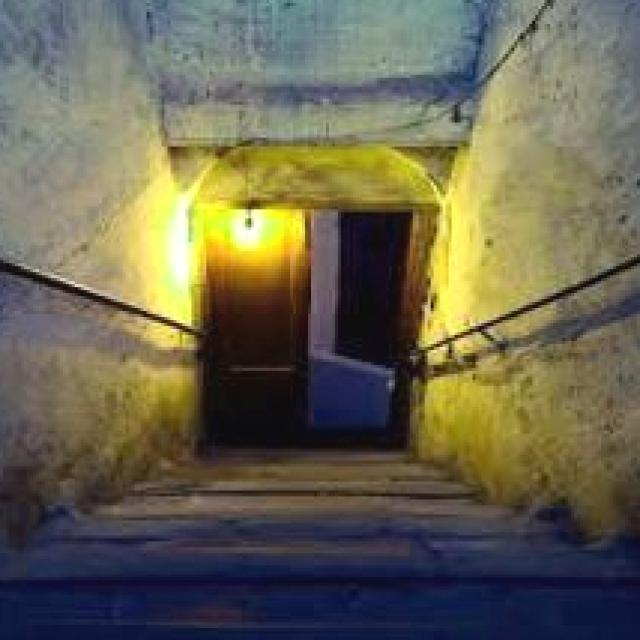downstair: (37, 462, 569, 605)
